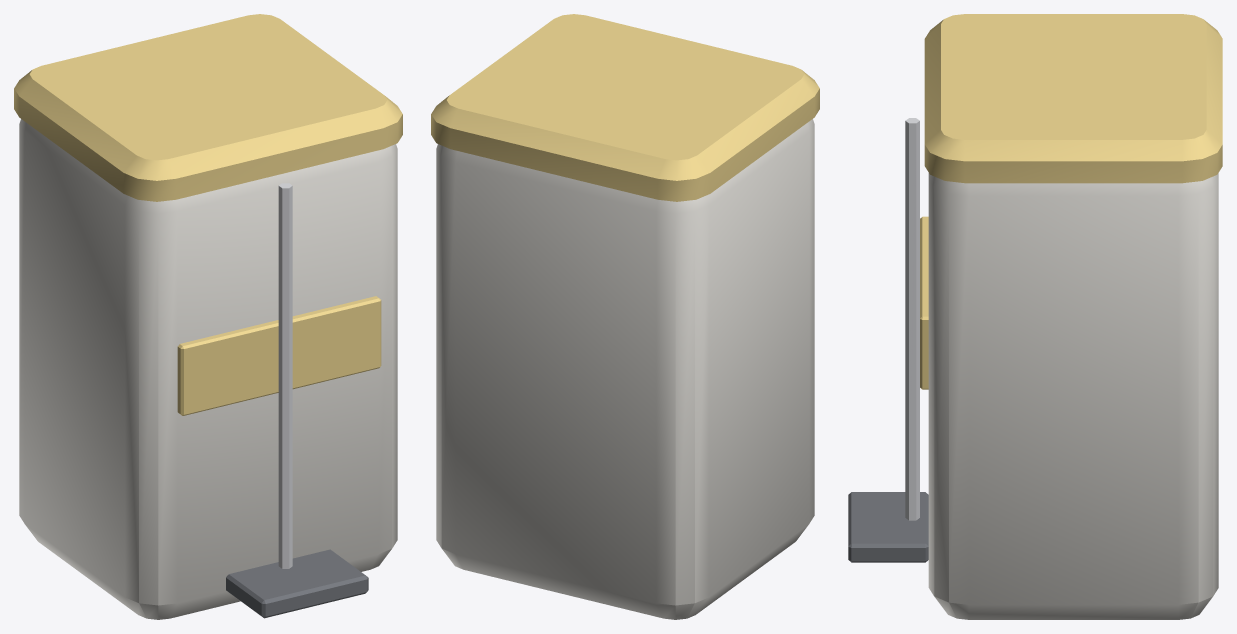
Rendered from care-home-and-day-room-clinical-waste-bin-73720101__35753.glb.
3 views of the same model, side by side, from view 1: azimuth 30°, elevation 25°; view 2: azimuth 150°, elevation 25°; view 3: azimuth 270°, elevation 25° (orthographic). The views are drawn at different scales.
Parts seen in each view (by area): view 1: clinical-waste-bin, lid-1; view 2: clinical-waste-bin, lid-1; view 3: clinical-waste-bin, lid-1.
Part boxes in pixels (left/top/right/bottom): clinical-waste-bin: left=19, top=119, right=397, bottom=619; lid-1: left=14, top=14, right=402, bottom=201; clinical-waste-bin: left=436, top=119, right=814, bottom=619; lid-1: left=431, top=14, right=819, bottom=201; clinical-waste-bin: left=848, top=118, right=1218, bottom=619; lid-1: left=924, top=14, right=1222, bottom=183.
Size of the model in its own units: 0.41 by 0.66 by 0.465.
